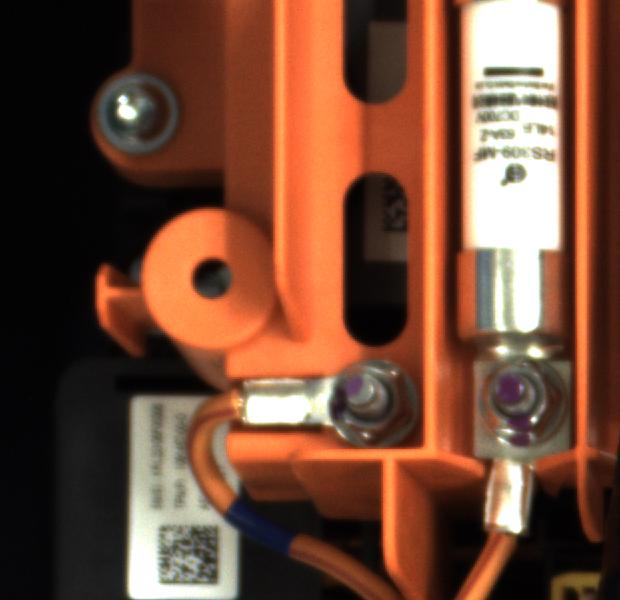screw_m: (86, 63, 191, 163)
screw_s: (476, 353, 574, 449), (321, 354, 418, 445)
